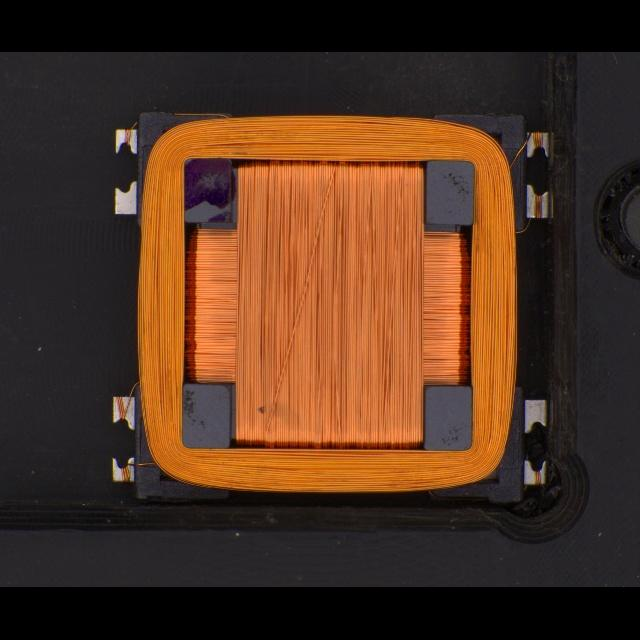Winding_Z: (132, 111, 527, 500)
